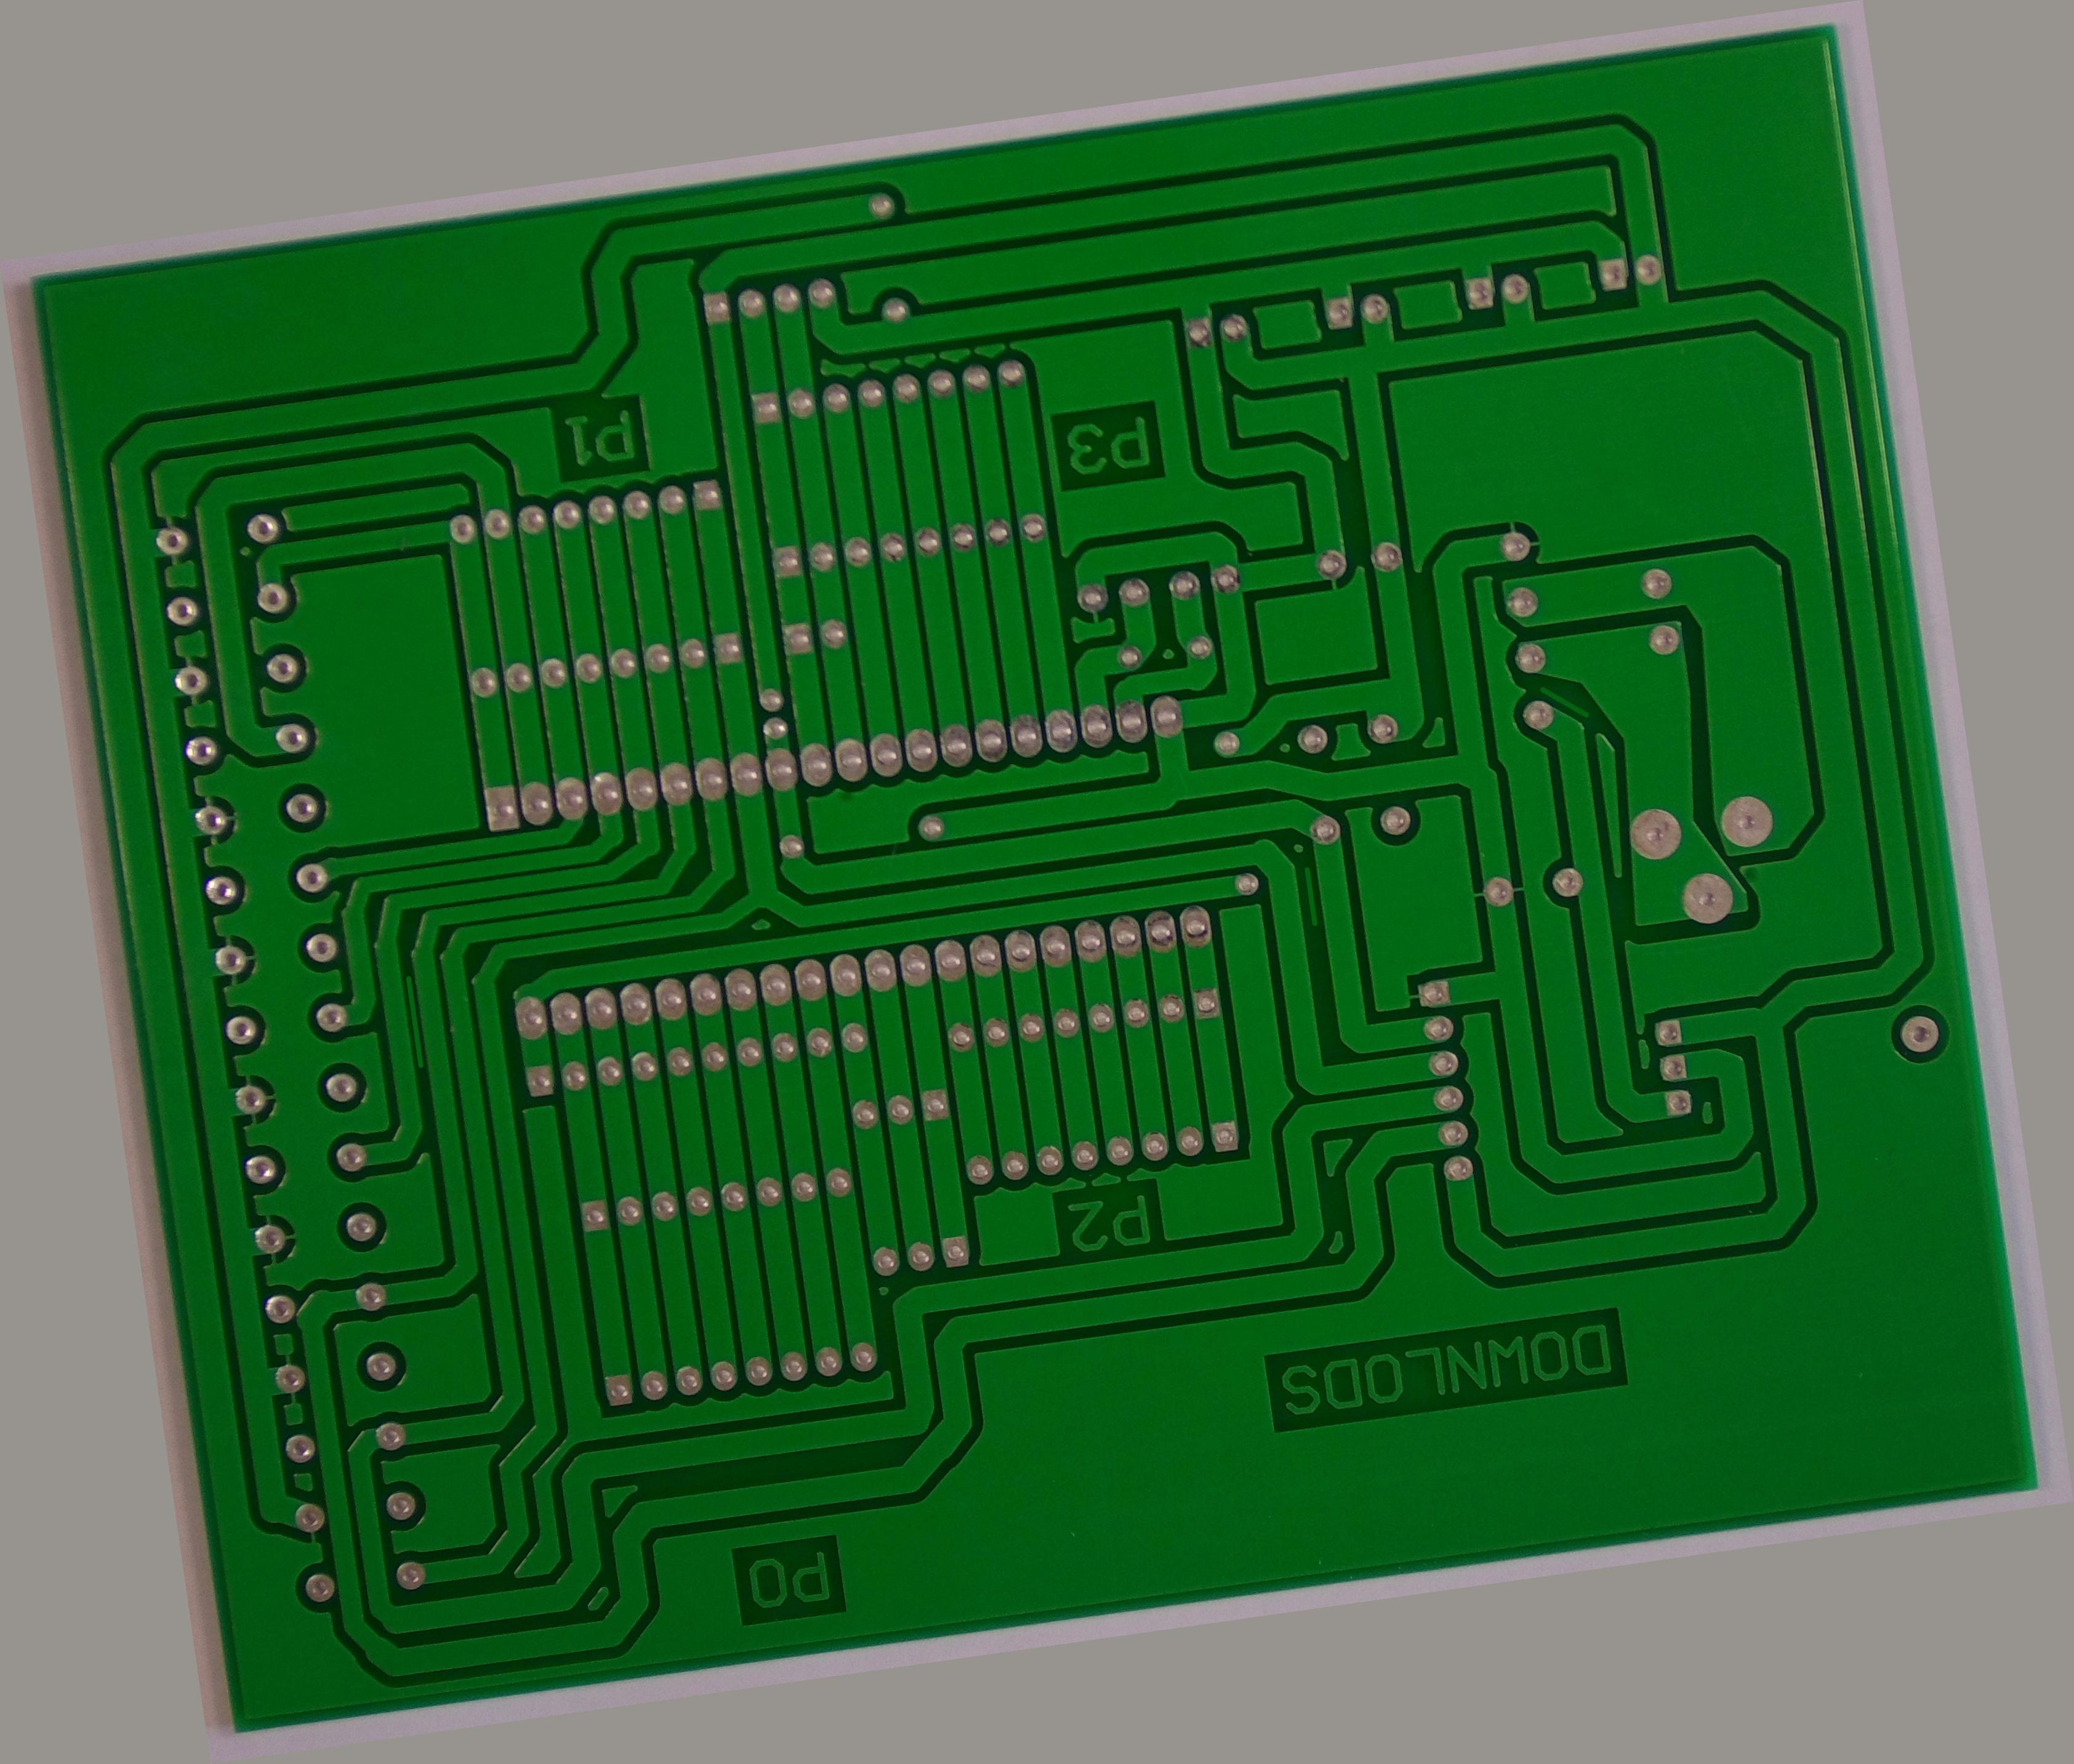spurious_copper: (1608, 735, 1670, 787), (327, 882, 348, 1010), (1321, 901, 1348, 980)
